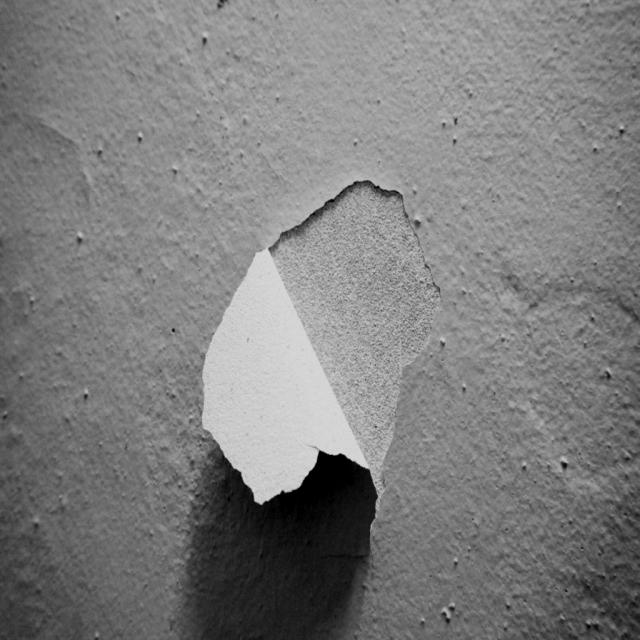peeling paint: (161, 143, 503, 574)
